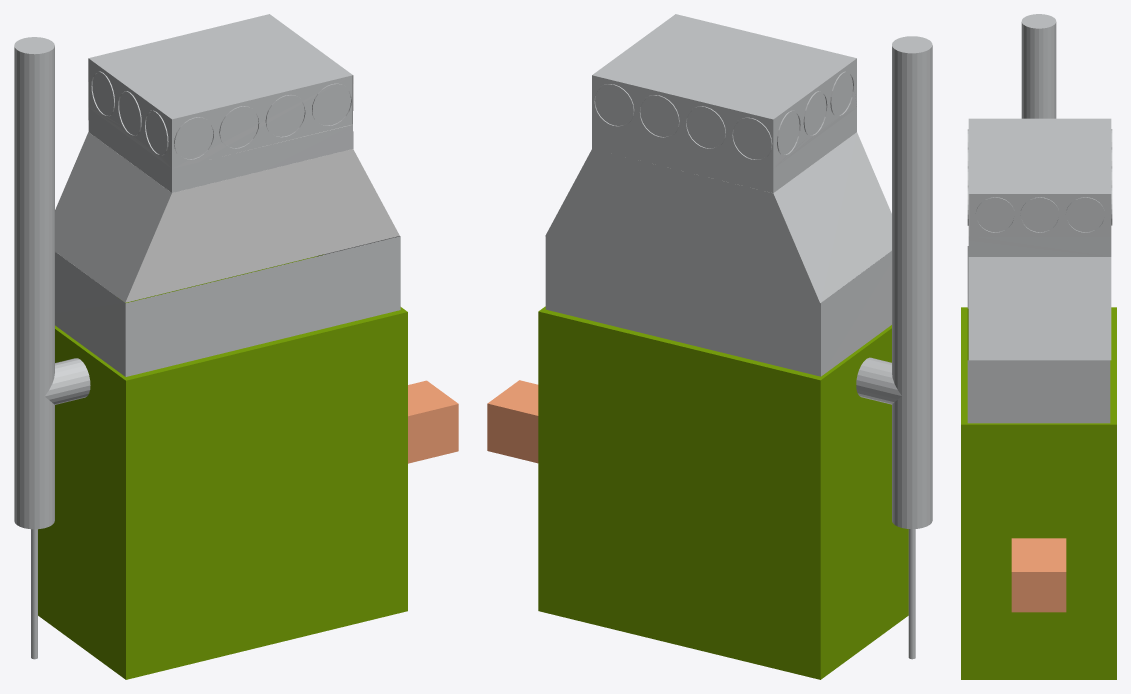
Rendered from wanson.1.glb.
The picture shows the model from 3 angles, left to right: view 1: azimuth 30°, elevation 25°; view 2: azimuth 150°, elevation 25°; view 3: azimuth 270°, elevation 25°; orthographic projection. The views are drawn at different scales.
Visible parts, largest first — view 1: imagetostl_mesh189, imagetostl_mesh703, imagetostl_mesh440, imagetostl_mesh210, imagetostl_mesh597, imagetostl_mesh796, imagetostl_mesh514, imagetostl_mesh188, imagetostl_mesh779, imagetostl_mesh1, imagetostl_mesh168, imagetostl_mesh174 (+15 smaller); view 2: imagetostl_mesh211, imagetostl_mesh780, imagetostl_mesh440, imagetostl_mesh198, imagetostl_mesh597, imagetostl_mesh796, imagetostl_mesh806, imagetostl_mesh188, imagetostl_mesh785, imagetostl_mesh0, imagetostl_mesh193, imagetostl_mesh197 (+15 smaller); view 3: imagetostl_mesh224, imagetostl_mesh799, imagetostl_mesh597, imagetostl_mesh187, imagetostl_mesh496, imagetostl_mesh178, imagetostl_mesh160, imagetostl_mesh362, imagetostl_mesh450, imagetostl_mesh706, imagetostl_mesh625, imagetostl_mesh199 (+8 smaller).
Boxes of the visible parts, x1,y1,x2,y2 form: imagetostl_mesh189: (126,312,407,679); imagetostl_mesh703: (125,149,399,302); imagetostl_mesh440: (38,329,125,679); imagetostl_mesh210: (125,236,400,376); imagetostl_mesh597: (88,14,352,119); imagetostl_mesh796: (55,132,171,302); imagetostl_mesh514: (172,75,352,168); imagetostl_mesh188: (55,252,125,376); imagetostl_mesh779: (172,125,352,192); imagetostl_mesh1: (39,53,44,528); imagetostl_mesh168: (29,54,34,529); imagetostl_mesh174: (24,53,29,528); imagetostl_mesh211: (538,311,820,679); imagetostl_mesh780: (545,149,819,302); imagetostl_mesh440: (820,328,908,679); imagetostl_mesh198: (545,236,820,376); imagetostl_mesh597: (592,14,856,119); imagetostl_mesh796: (773,132,891,302); imagetostl_mesh806: (592,75,773,168); imagetostl_mesh188: (821,251,891,376); imagetostl_mesh785: (592,125,773,192); imagetostl_mesh0: (917,52,922,528); imagetostl_mesh193: (907,53,912,529); imagetostl_mesh197: (912,53,917,529); imagetostl_mesh224: (961,424,1116,679); imagetostl_mesh799: (968,257,1111,360); imagetostl_mesh597: (968,118,1111,193); imagetostl_mesh187: (967,360,1110,423); imagetostl_mesh496: (969,194,1111,236); imagetostl_mesh178: (1011,572,1066,612); imagetostl_mesh160: (1011,538,1066,571); imagetostl_mesh362: (961,307,1116,424); imagetostl_mesh450: (968,236,1111,256); imagetostl_mesh706: (968,238,1109,256); imagetostl_mesh625: (1021,198,1058,232); imagetostl_mesh199: (1026,26,1030,118).
Size of the model in its own units: 3.33 by 4.57 by 1.24.
